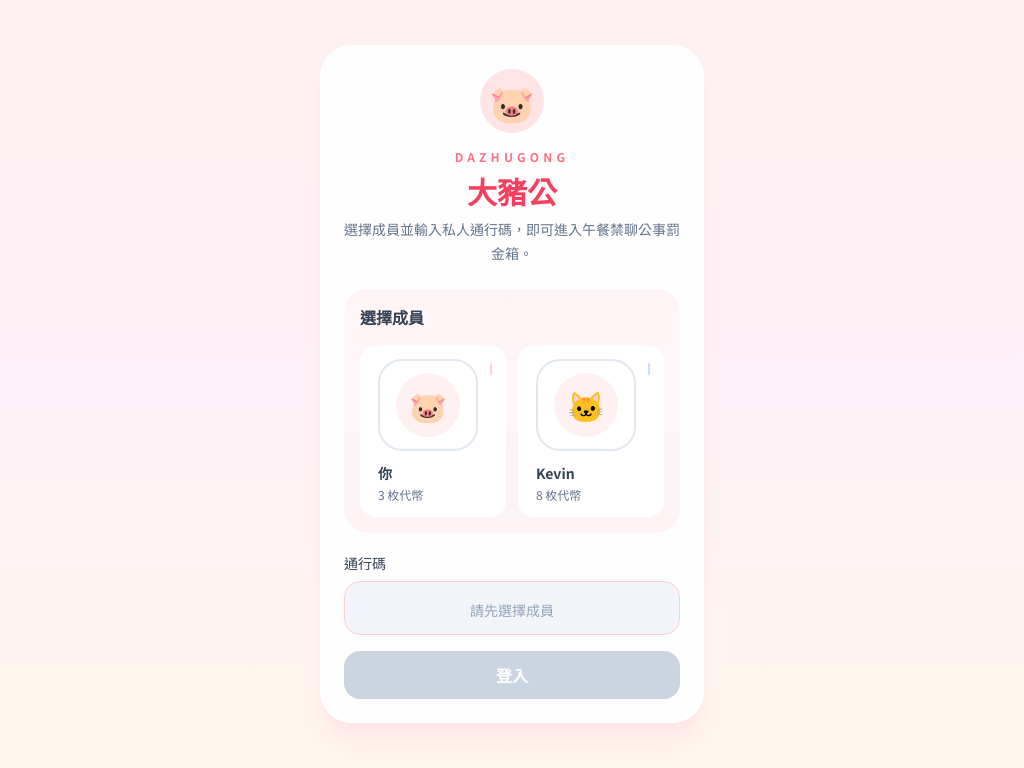
Test case: Login › renders an accessible private access-code input without digit filtering
Check: the button with aria-label "選擇成員 Kevin" shows "8 枚代幣", box [518,345,664,517]
Click the button with aria-label "選擇成員 你" at {"x": 433, "y": 431}, box [360,345,506,517]
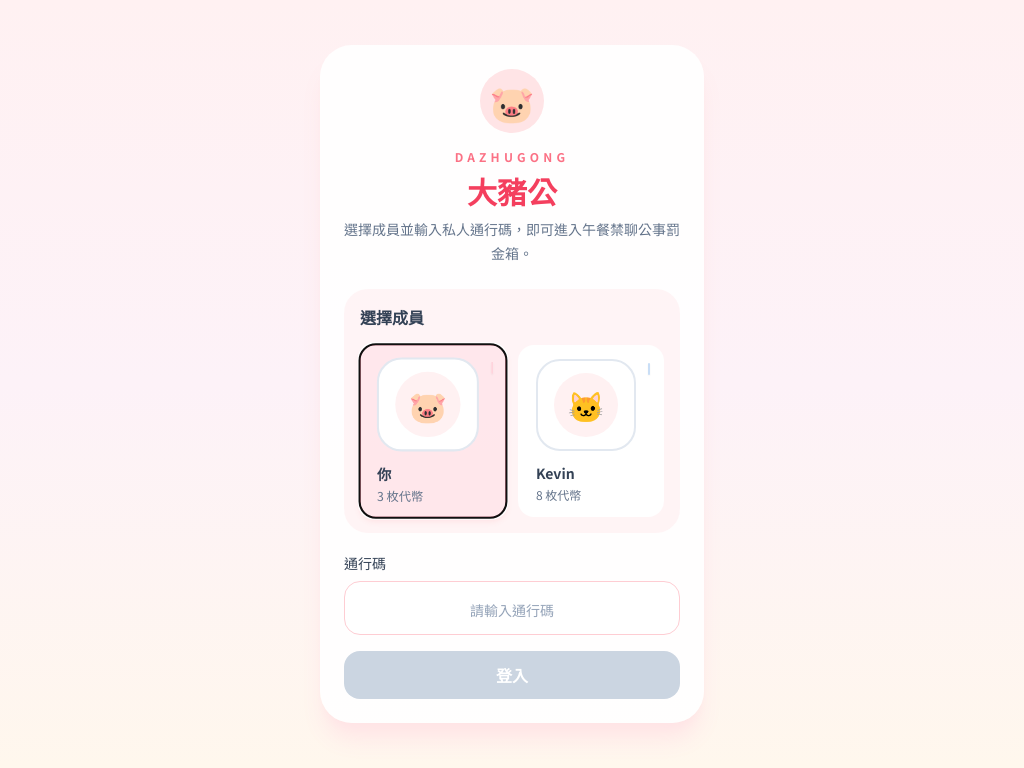
Check: the button "登入" is disabled, box [344,651,680,699]
Type "River!Stone9X" into the password field labelled "通行碼" at {"x": 512, "y": 608}, box [344,581,680,635]
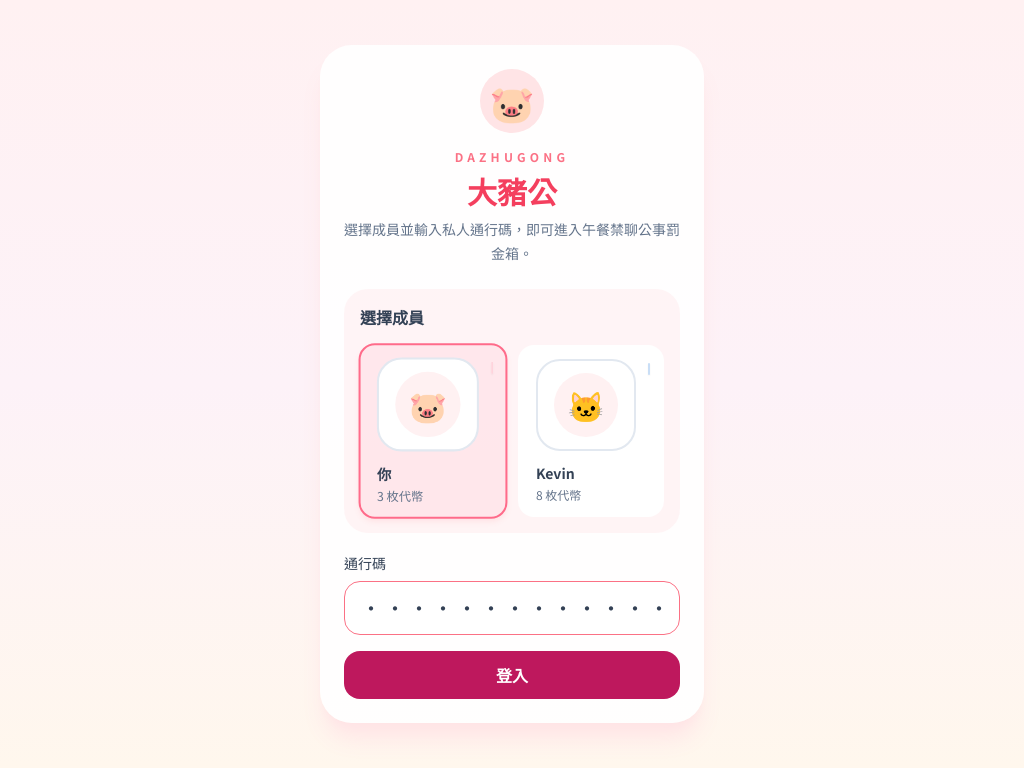
Check: the button "登入" is enabled, box [344,651,680,699]
